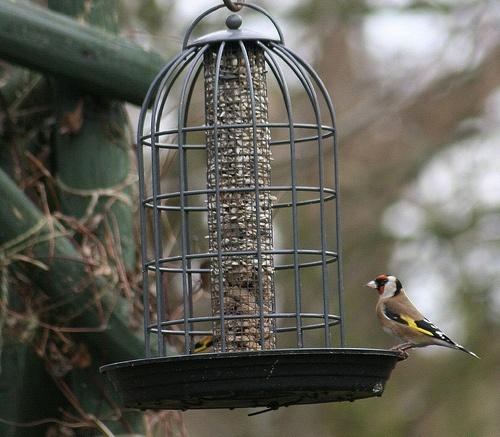bird: (363, 274, 482, 367)
